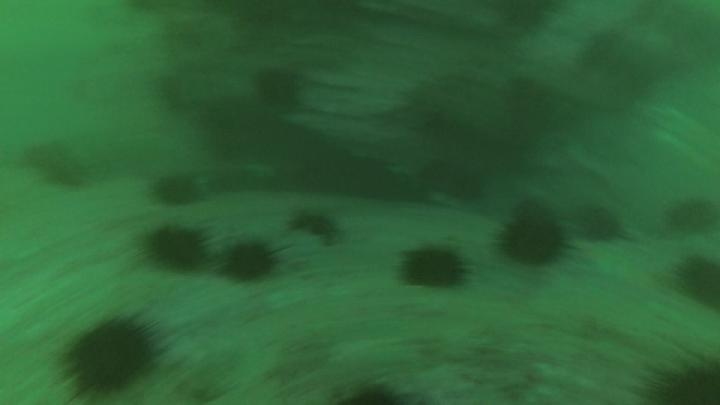echinus: (71, 326, 151, 391), (504, 219, 561, 266), (149, 227, 205, 269), (402, 250, 460, 290), (678, 257, 720, 310), (256, 69, 302, 112), (423, 165, 473, 201), (225, 244, 274, 277), (581, 206, 617, 245), (156, 174, 193, 206)
